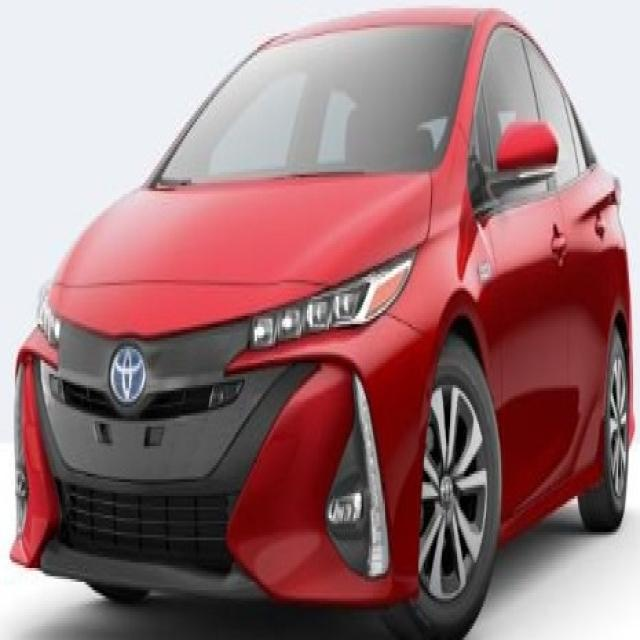red: (17, 16, 640, 640)
